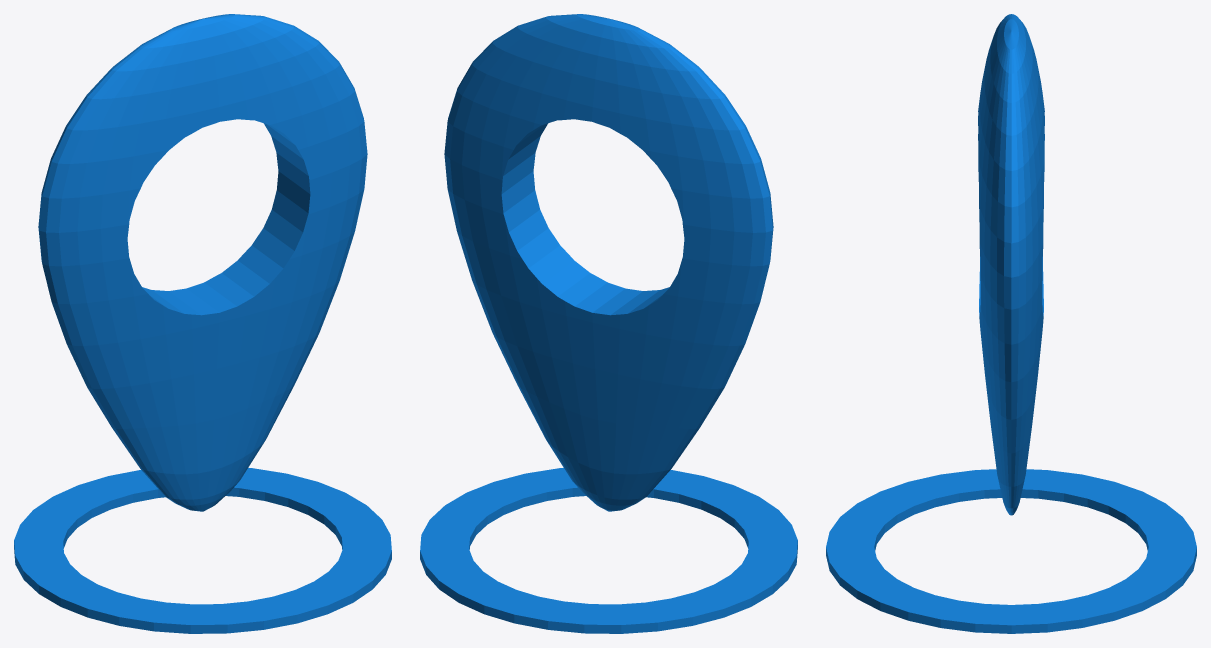
File: marker.fbx
3 renders of one model, left to right at view 1: azimuth 30°, elevation 25°; view 2: azimuth 150°, elevation 25°; view 3: azimuth 270°, elevation 25°, orthographic. The views are drawn at different scales.
Parts seen in each view (by area): view 1: Sphere, Circle; view 2: Sphere, Circle; view 3: Sphere, Circle.
Part boxes in pixels (x1,y1,x2,y2): Sphere: (38,14,367,511); Circle: (14,468,391,633); Sphere: (444,14,773,511); Circle: (420,468,797,633); Sphere: (978,14,1044,515); Circle: (826,469,1196,633).
Size of the model in its own units: 200 by 312 by 200.
